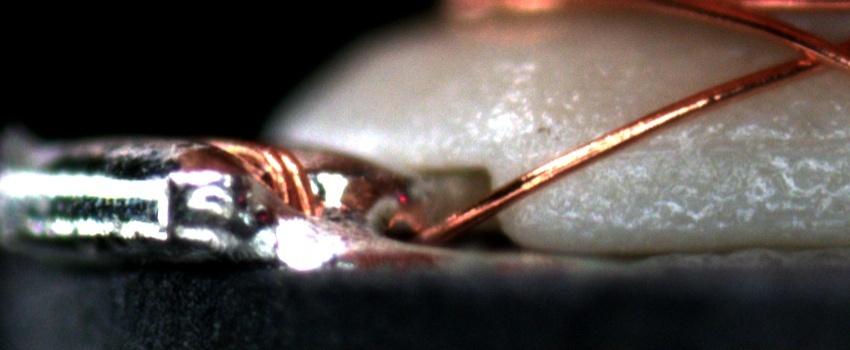CL: (774, 30, 846, 80)
DL: (624, 113, 850, 177)
TE: (205, 129, 334, 222)
